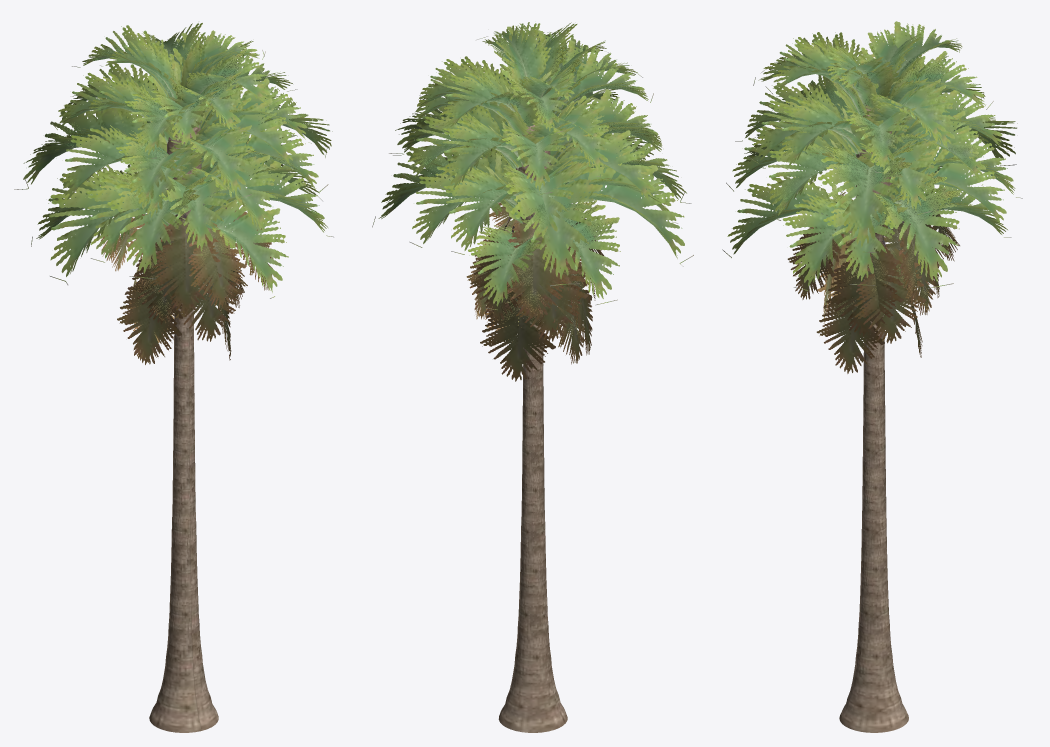
File: palm-tall.lod1.glb
The picture shows the model from 3 angles, left to right: view 1: azimuth 30°, elevation 25°; view 2: azimuth 150°, elevation 25°; view 3: azimuth 270°, elevation 25°; orthographic projection.
Parts seen in each view (by area): view 1: Tree_1_Palm_4_Leaf_0, Tree_1_Plam_4_Trunk_0; view 2: Tree_1_Palm_4_Leaf_0, Tree_1_Plam_4_Trunk_0; view 3: Tree_1_Palm_4_Leaf_0, Tree_1_Plam_4_Trunk_0.
Boxes of the visible parts, box(x1,y1,x2,y2) form: Tree_1_Palm_4_Leaf_0: box(14, 23, 333, 364); Tree_1_Plam_4_Trunk_0: box(149, 125, 218, 732); Tree_1_Palm_4_Leaf_0: box(372, 22, 693, 381); Tree_1_Plam_4_Trunk_0: box(498, 116, 567, 732); Tree_1_Palm_4_Leaf_0: box(722, 21, 1022, 373); Tree_1_Plam_4_Trunk_0: box(839, 97, 908, 732).
Size of the model in its own units: 6.16 by 14 by 5.79.
Materials: 2 (2 with a texture image).
